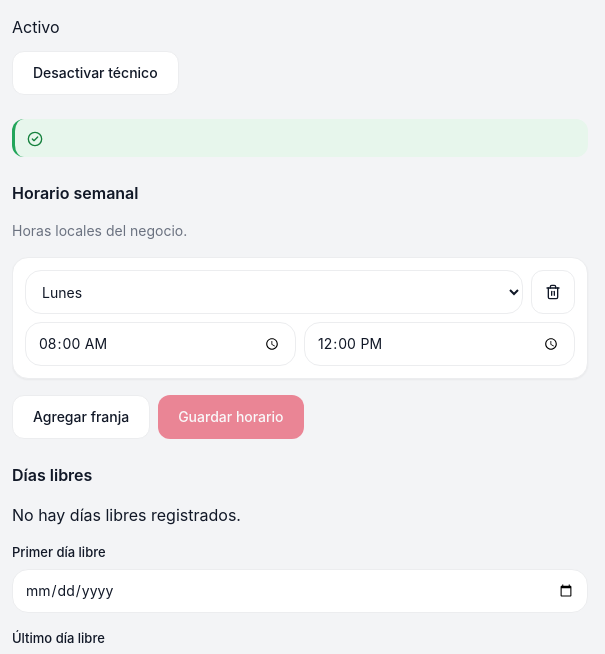
TechnicianDetailPage: horario semanal › muestra error cuando el fin es anterior al inicio y no envía nada
This screenshot has width=605, height=654.
(page scrolled)
Replace the text in the time field named "Fin de la franja 1" with "07:00" at {"x": 440, "y": 344}, box x1=304 y1=322 x2=575 y2=366
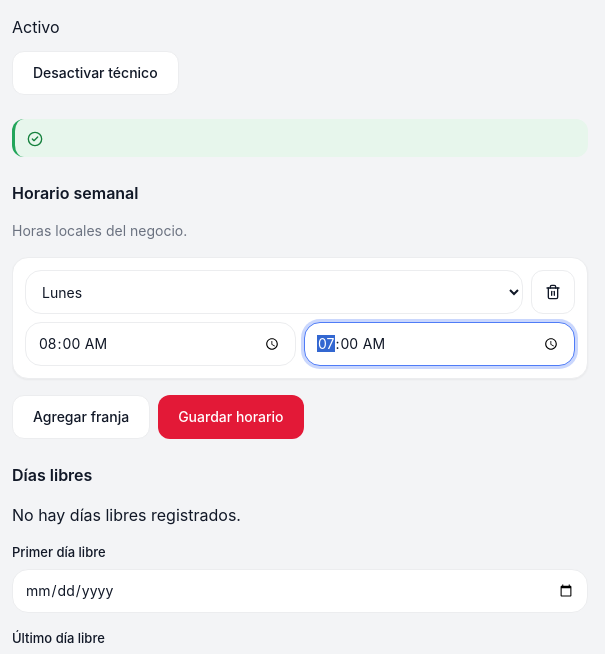
Click the button "Guardar horario" at {"x": 231, "y": 417}, box x1=158 y1=395 x2=304 y2=439
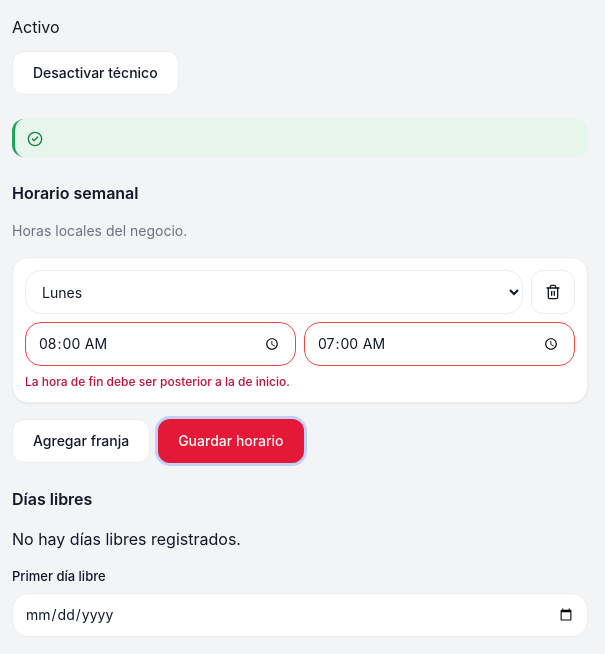
Expected: the text "La hora de fin debe ser posterior a la de inicio." is shown, x1=25 y1=374 x2=290 y2=389
